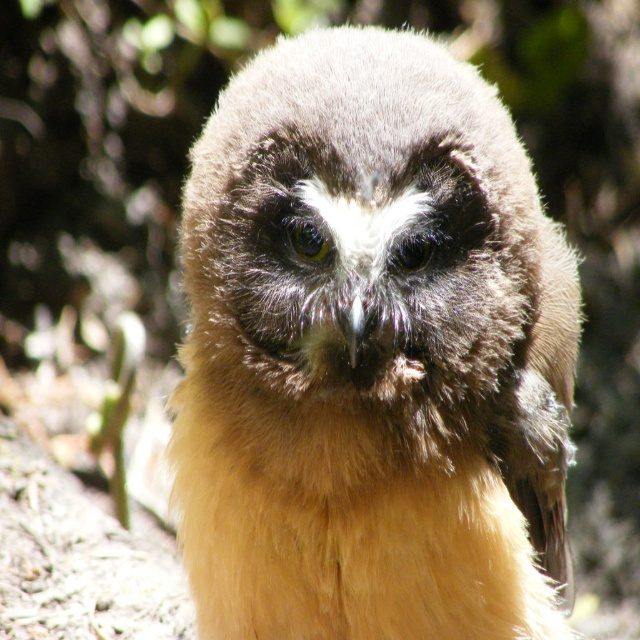Owl: (162, 20, 589, 640)
